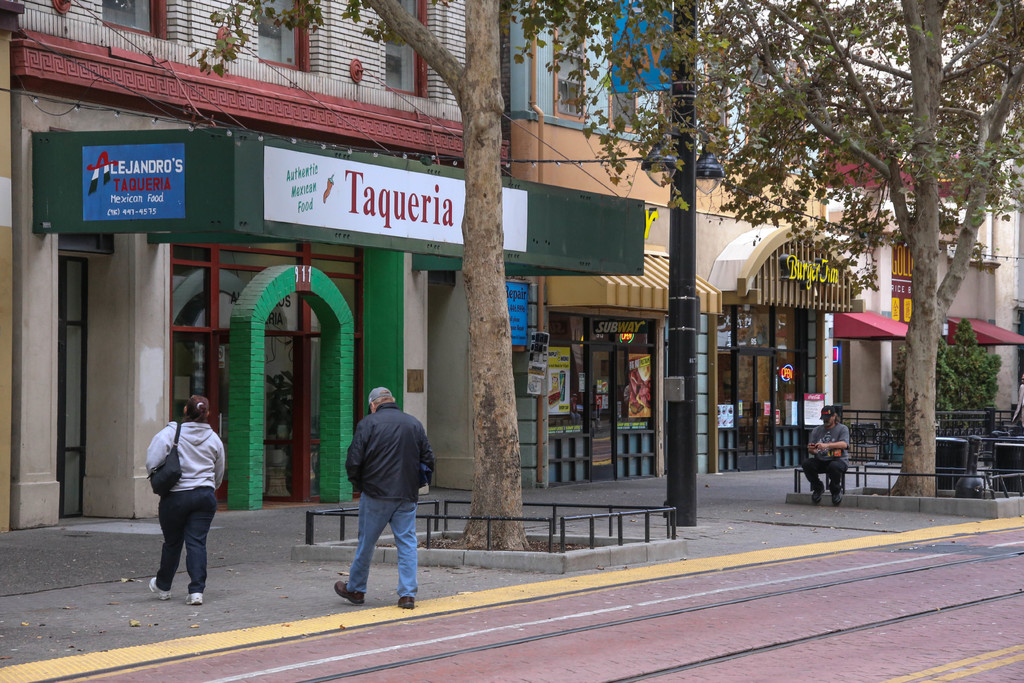Footwear: (332, 579, 362, 599), (184, 586, 207, 609), (150, 579, 168, 602), (394, 593, 415, 611), (828, 484, 839, 510), (813, 486, 824, 506)
